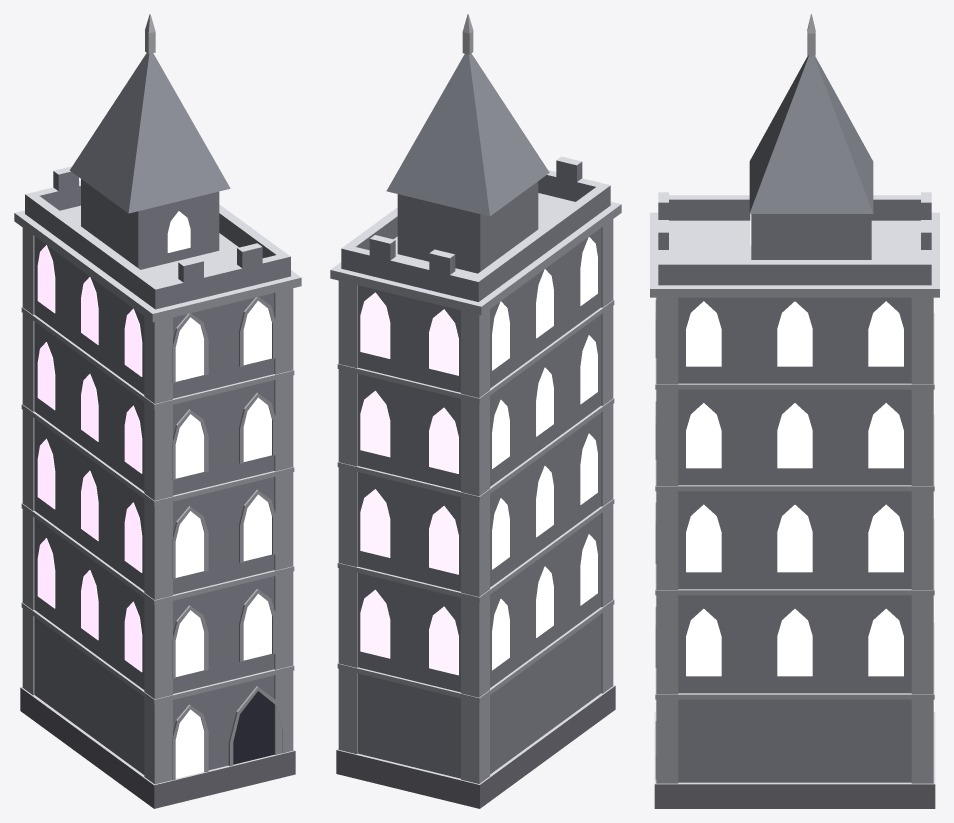
Rendered from AR_Lote_Estreito_Alto.fbx.
3 views of the same model, side by side, from view 1: azimuth 30°, elevation 25°; view 2: azimuth 150°, elevation 25°; view 3: azimuth 270°, elevation 25° (orthographic). The views are drawn at different scales.
Parts seen in each view (by area): view 1: AR_Lote_Estreito_Alto; view 2: AR_Lote_Estreito_Alto; view 3: AR_Lote_Estreito_Alto.
Part boxes in pixels (bbox=[...]): AR_Lote_Estreito_Alto: bbox=[14, 14, 301, 808]; AR_Lote_Estreito_Alto: bbox=[330, 14, 621, 808]; AR_Lote_Estreito_Alto: bbox=[650, 14, 939, 808].
Size of the model in its own units: 6.6 by 30.6 by 10.6.
